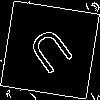U: (25, 25, 82, 85)
